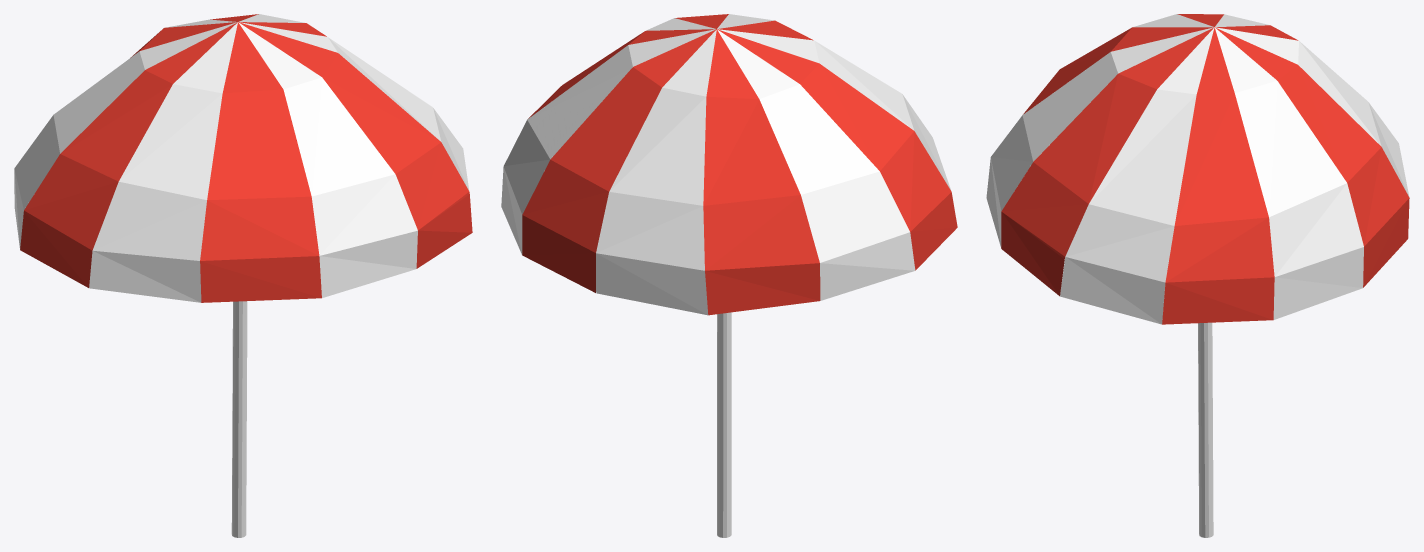
File: parasol.glb
3 views of the same model, side by side, from view 1: azimuth 30°, elevation 25°; view 2: azimuth 150°, elevation 25°; view 3: azimuth 270°, elevation 25° (orthographic).
Parts seen in each view (by area): view 1: group1776344293, group822346014; view 2: group1776344293, group822346014; view 3: group1776344293, group822346014.
Boxes of the visible parts, x1=… form: group1776344293: x1=14, y1=14, x2=469, y2=537; group822346014: x1=20, y1=14, x2=472, y2=302; group1776344293: x1=501, y1=14, x2=951, y2=537; group822346014: x1=522, y1=14, x2=957, y2=315; group1776344293: x1=986, y1=14, x2=1409, y2=537; group822346014: x1=1001, y1=14, x2=1409, y2=324.
Bounding box in the file's own units: 2.11 × 2.5 × 1.88.
